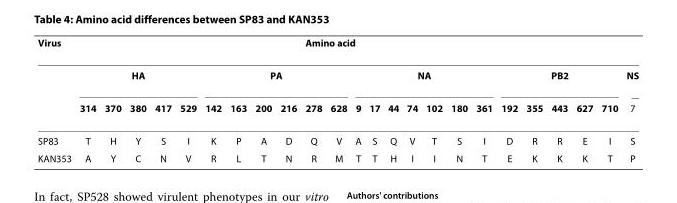table: (37, 36, 638, 163)
table column: (37, 36, 74, 163), (124, 36, 150, 163), (74, 36, 99, 163), (99, 36, 124, 163), (150, 36, 175, 163), (175, 36, 200, 163), (200, 36, 225, 163), (225, 36, 250, 163), (250, 36, 275, 163), (275, 36, 300, 163), (300, 36, 325, 163), (325, 36, 350, 163), (421, 36, 446, 163), (446, 36, 471, 163), (471, 36, 496, 163), (496, 36, 521, 163), (521, 36, 546, 163), (546, 36, 571, 163), (571, 36, 596, 163), (596, 36, 621, 163), (364, 36, 383, 163), (383, 36, 402, 163), (402, 36, 421, 163), (621, 36, 638, 163), (350, 36, 364, 163)
table column header: (37, 36, 638, 124)
table row: (37, 58, 638, 91), (37, 91, 638, 124), (37, 124, 638, 149), (37, 36, 638, 58), (37, 149, 638, 163)
table spanning cell: (300, 36, 638, 58), (37, 36, 300, 58), (200, 58, 350, 91), (350, 58, 496, 91), (74, 58, 200, 91), (496, 58, 621, 91), (621, 58, 638, 124)
